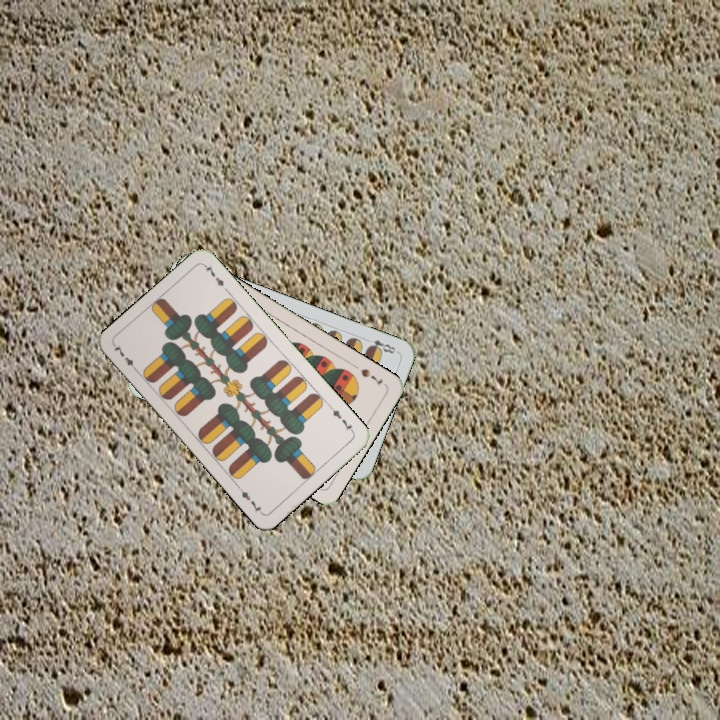E7: (110, 341, 141, 375), (326, 402, 357, 435)
E8: (361, 334, 398, 356)
S7: (357, 364, 385, 389)
